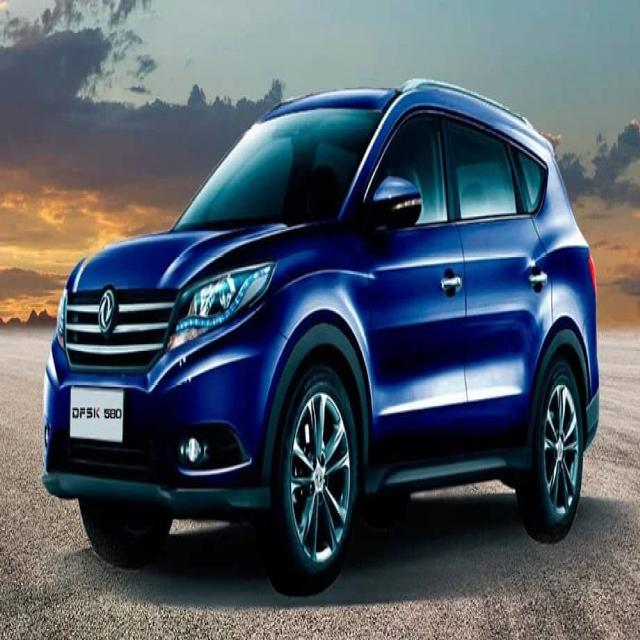SUV: (35, 72, 598, 598)
